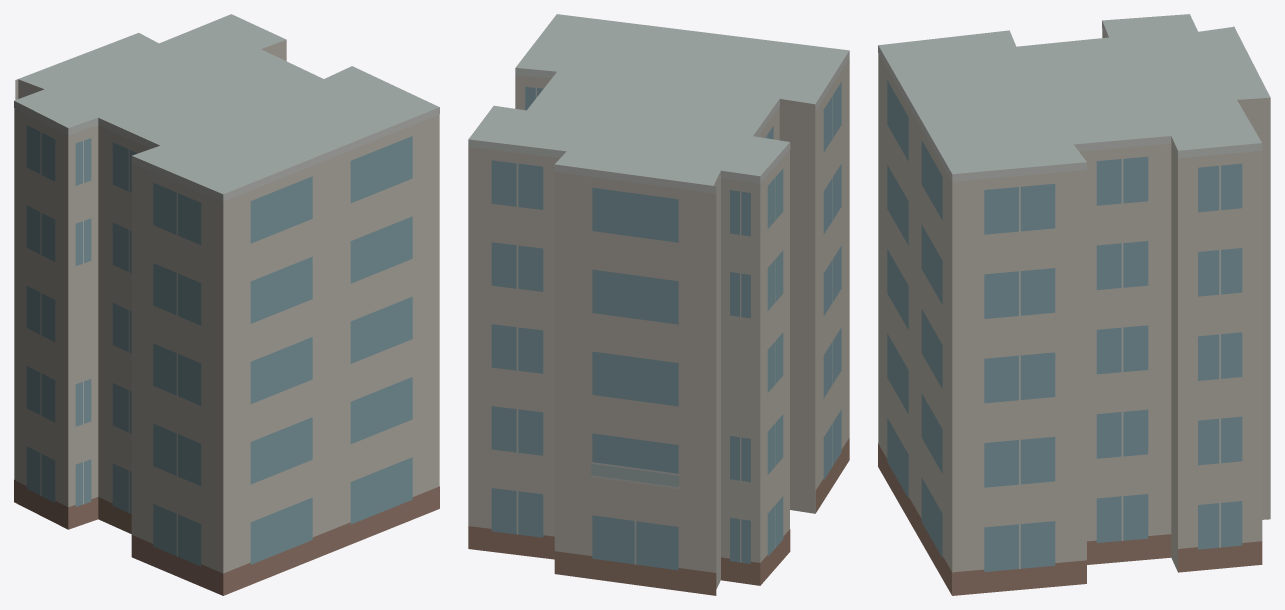
The model's file is survey-upis-32618678.glb.
3 renders of one model, left to right at view 1: azimuth 30°, elevation 25°; view 2: azimuth 150°, elevation 25°; view 3: azimuth 270°, elevation 25°, orthographic. The views are drawn at different scales.
Parts seen in each view (by area): view 1: survey-upis-32618678.tmp; view 2: survey-upis-32618678.tmp; view 3: survey-upis-32618678.tmp.
Part boxes in pixels (x1,y1,x2,y2): survey-upis-32618678.tmp: [14, 14, 439, 595]; survey-upis-32618678.tmp: [468, 14, 849, 595]; survey-upis-32618678.tmp: [878, 14, 1270, 595].
Size of the model in its own units: 11.01 by 13.5 by 11.4.
